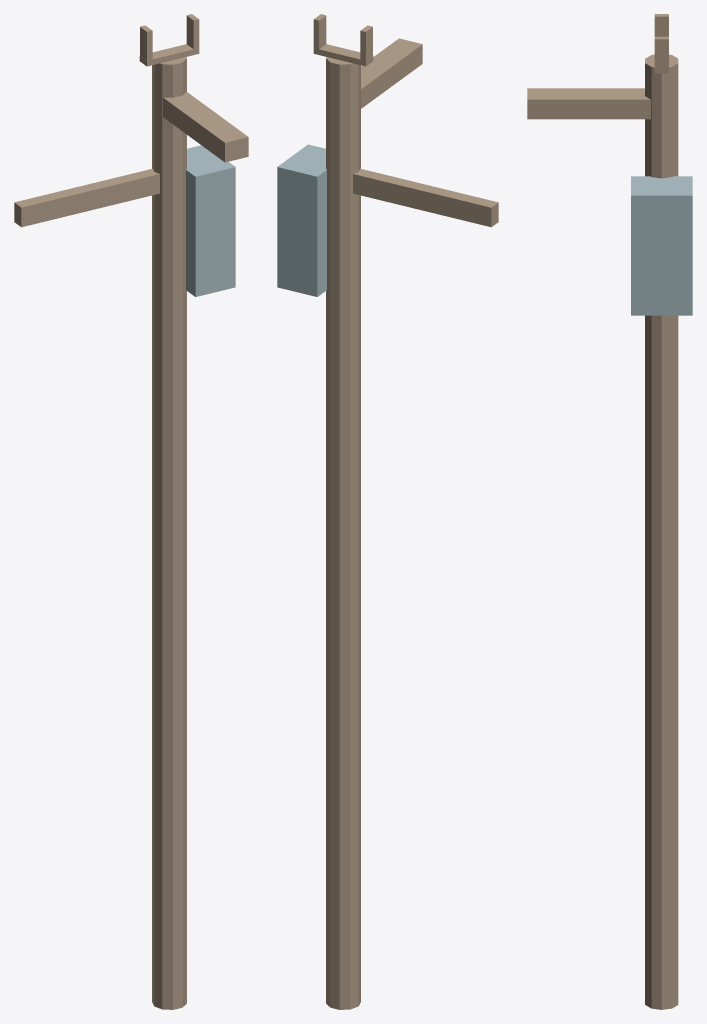
File: post_alone.fbx
3 views of the same model, side by side, from view 1: azimuth 30°, elevation 25°; view 2: azimuth 150°, elevation 25°; view 3: azimuth 270°, elevation 25° (orthographic).
Visible parts, largest first — view 1: polySurface4; view 2: polySurface4; view 3: polySurface4.
Part boxes in pixels (x1,y1,x2,y2): polySurface4: (14, 14, 248, 1009); polySurface4: (277, 14, 498, 1009); polySurface4: (527, 14, 692, 1009).
Bounding box in the file's own units: 5.59 × 3.96 × 25.85.
